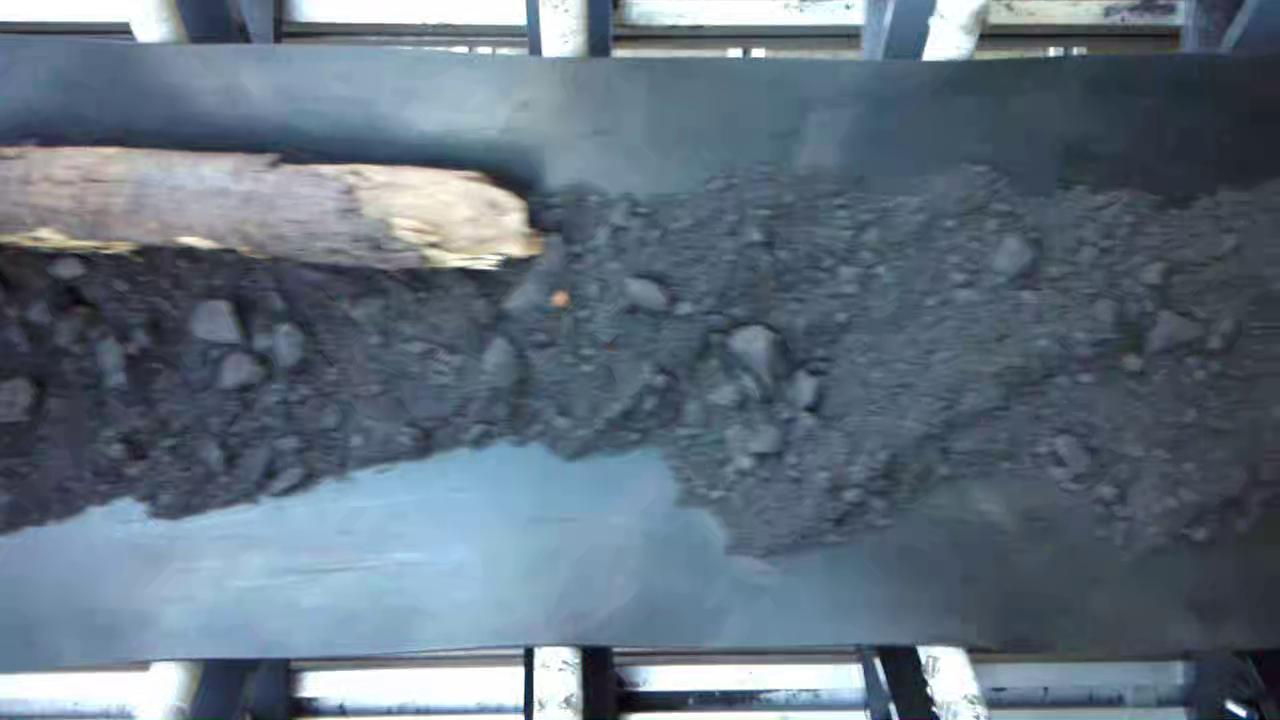conveyor: (6, 65, 1280, 641)
